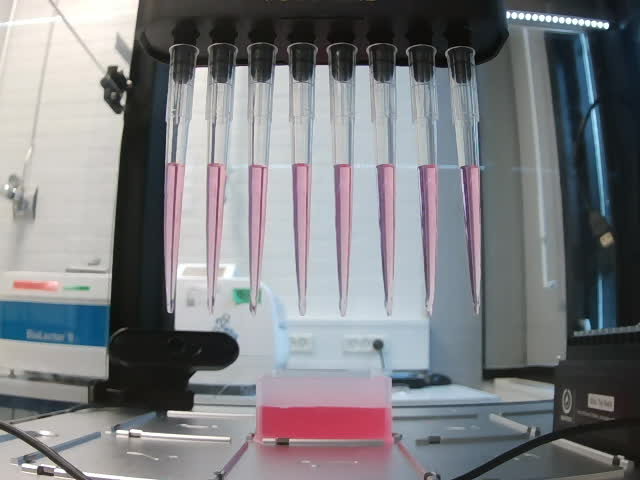pipet: (444, 46, 482, 315), (164, 43, 200, 314), (286, 43, 320, 317), (406, 44, 440, 317), (246, 43, 280, 315), (366, 43, 399, 317), (206, 43, 238, 314), (327, 43, 357, 318)
red liquid: (205, 163, 229, 314), (458, 165, 482, 315), (247, 162, 270, 316), (164, 163, 186, 314), (375, 163, 396, 317), (292, 163, 313, 316), (416, 165, 437, 317), (333, 163, 352, 317)
